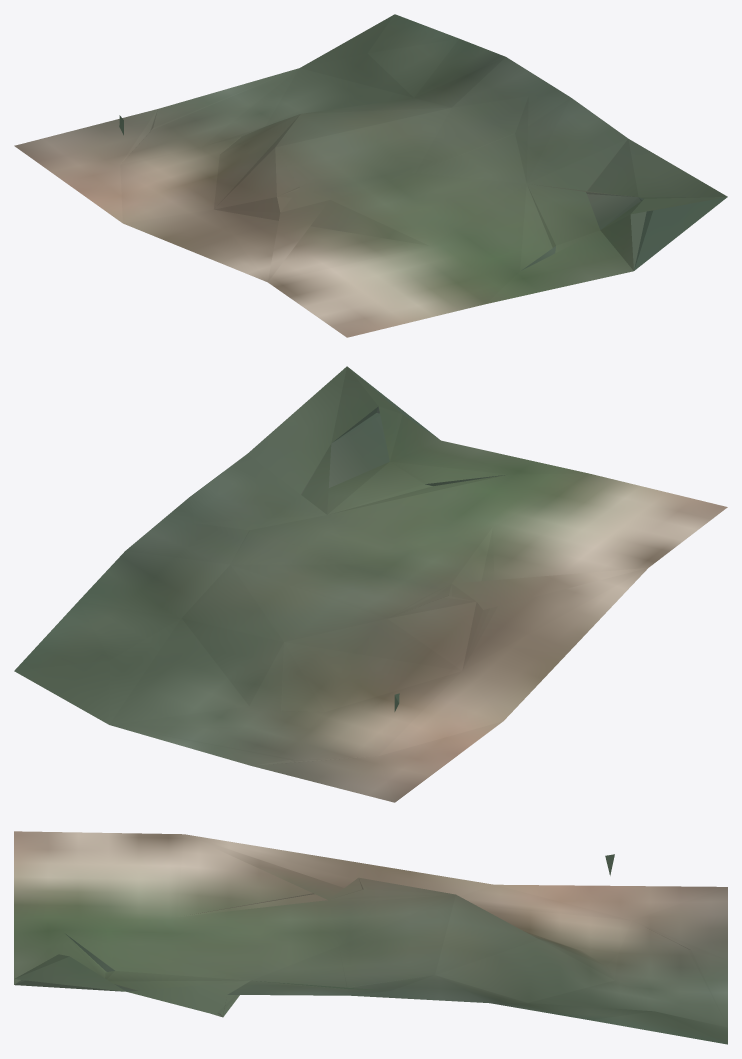
Rendered from Tile__006__008.glb.
3 views of the same model, one above another, from view 1: azimuth 30°, elevation 25°; view 2: azimuth 150°, elevation 25°; view 3: azimuth 270°, elevation 25° (orthographic). The views are drawn at different scales.
Visible parts, largest first — view 1: root; view 2: root; view 3: root.
Part boxes in pixels (box(x1,y1,x2,y2)): root: box(14, 14, 727, 337); root: box(14, 366, 727, 802); root: box(14, 831, 727, 1044).
Size of the model in its own units: 62.64 by 15.93 by 94.87.
Materials: 1 (1 with a texture image).
